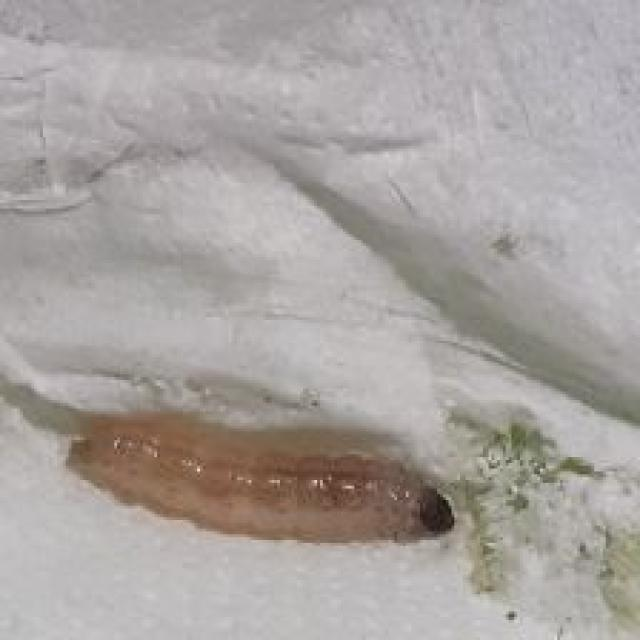white mucus: (53, 413, 481, 554)
